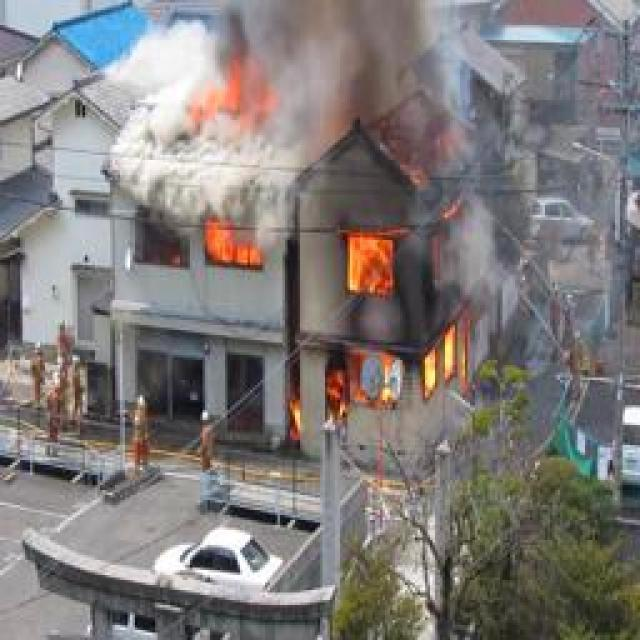Fire: (327, 200, 471, 425), (194, 47, 289, 131), (202, 225, 269, 272)
